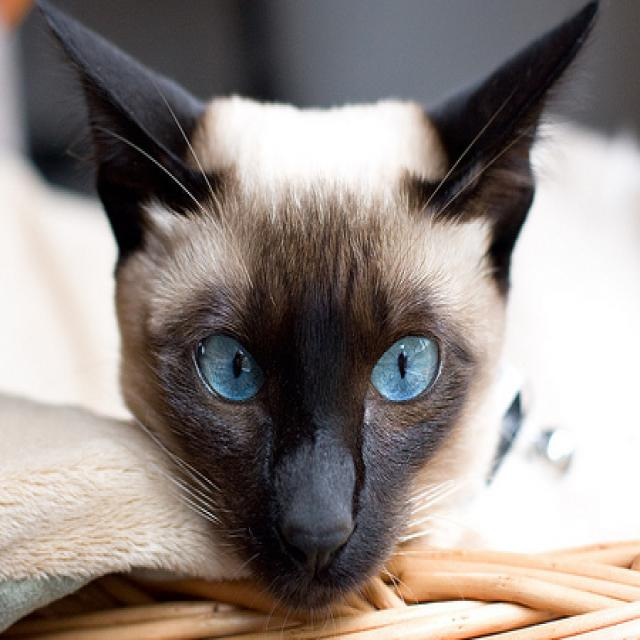Siamese: (27, 0, 607, 619)
